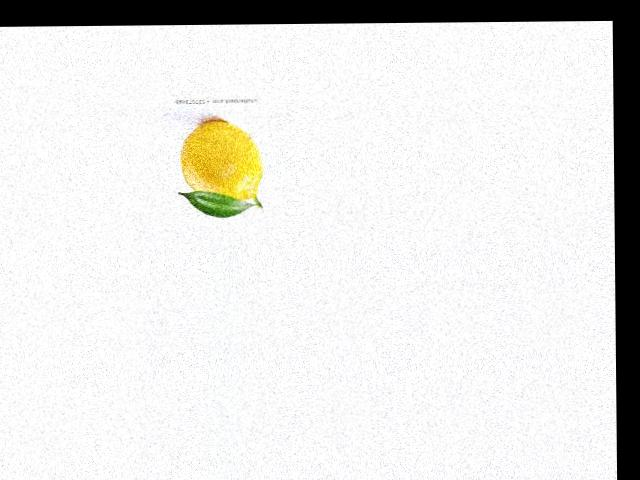lemon: (170, 107, 268, 213)
